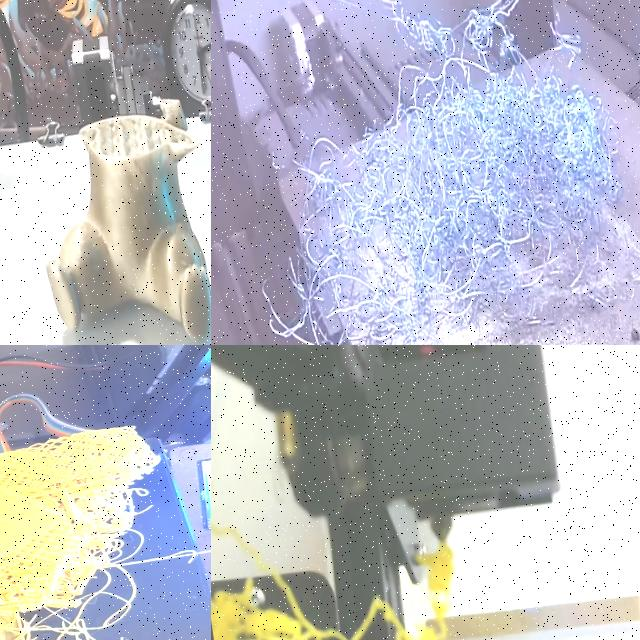spaghetti: (211, 0, 640, 345), (0, 428, 178, 640), (211, 522, 454, 640)
